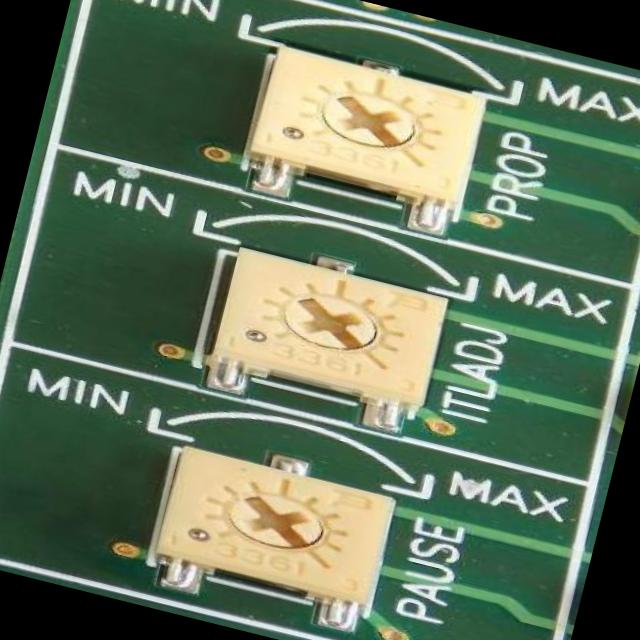potentiometer: (219, 31, 502, 232), (132, 433, 406, 635), (185, 233, 452, 436)
